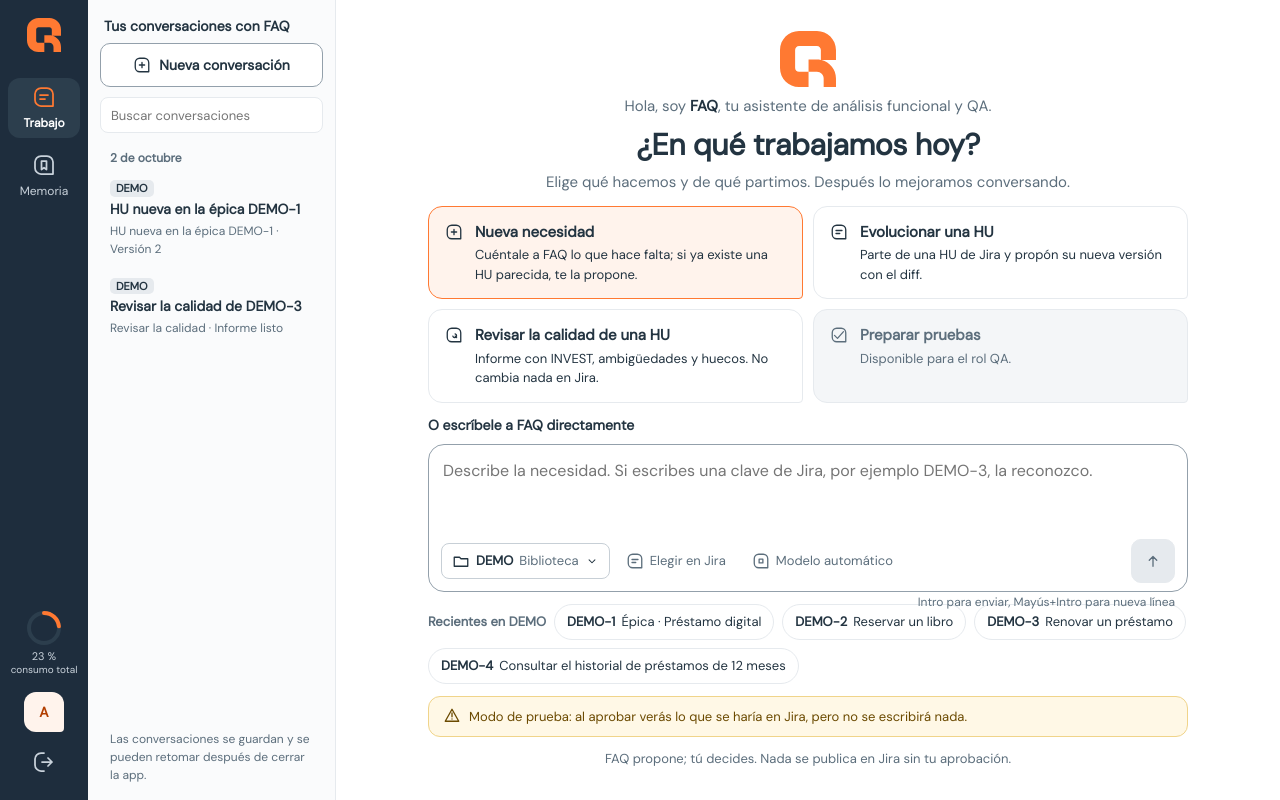
Test case: Iterar: huecos (UI.md §4.5, DESIGN-DECISIONS.md §4 bis) › una HU nueva en una épica se titula «HU nueva en la épica DEMO-1» en la cabecera y en el panel (PA-317)
The width and height of the screenshot is (1280, 800).
Click the button "HU nueva en la épica DEMO-1" at coordinates (212, 219), box top-left (100, 171), bottom-right (323, 266)
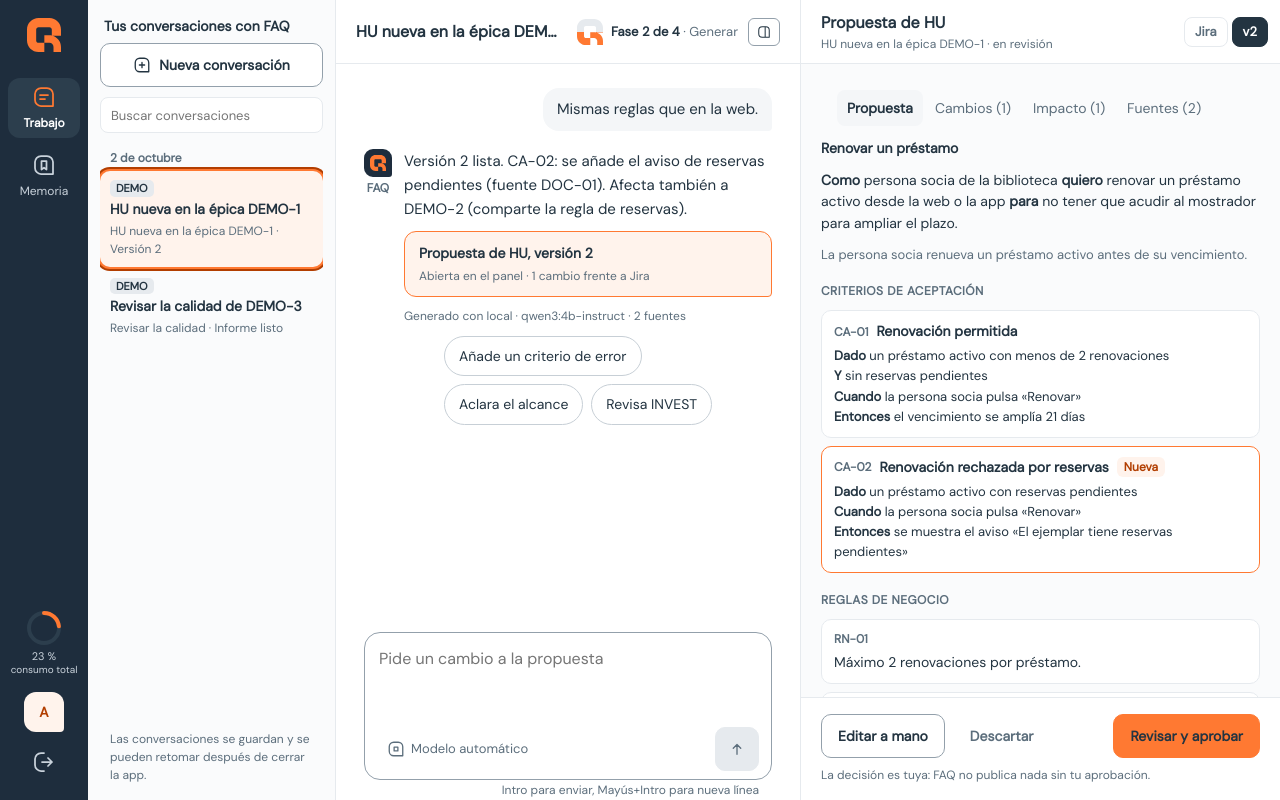
Result: the heading "HU nueva en la épica DEMO-1" is shown at top-left (356, 20), bottom-right (567, 44)
Result: the text "HU nueva en la épica DEMO-1 · en revisión" is shown at top-left (821, 36), bottom-right (1053, 52)
